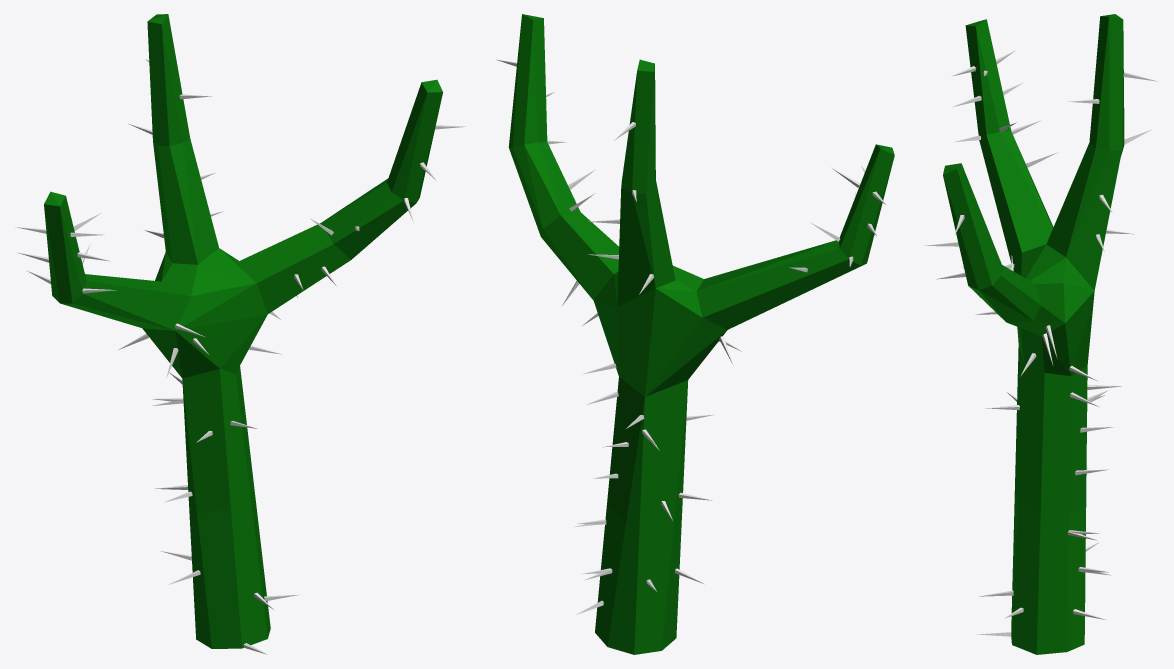
File: cactus1.fbx
The picture shows the model from 3 angles, left to right: view 1: azimuth 30°, elevation 25°; view 2: azimuth 150°, elevation 25°; view 3: azimuth 270°, elevation 25°; orthographic projection.
Parts seen in each view (by area): view 1: Cube; view 2: Cube; view 3: Cube.
Boxes of the visible parts, x1,y1,x2,y2 form: Cube: (15,14,465,654); Cube: (496,14,894,654); Cube: (924,14,1157,654).
Bounding box in the file's own units: 310 × 428 × 150.
